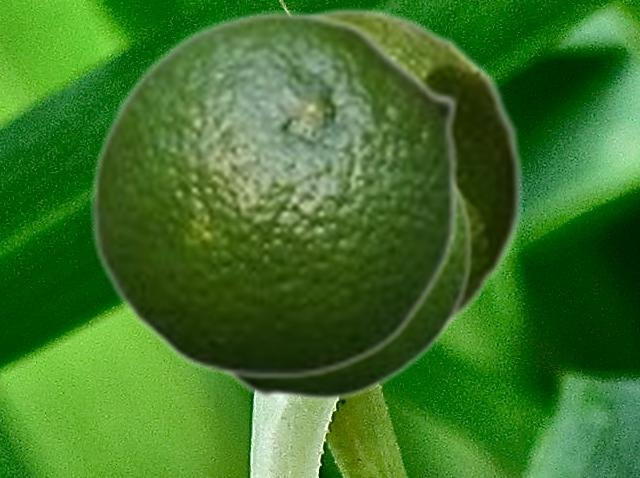calamansi: (90, 10, 460, 380), (293, 6, 525, 335), (217, 179, 473, 401)
